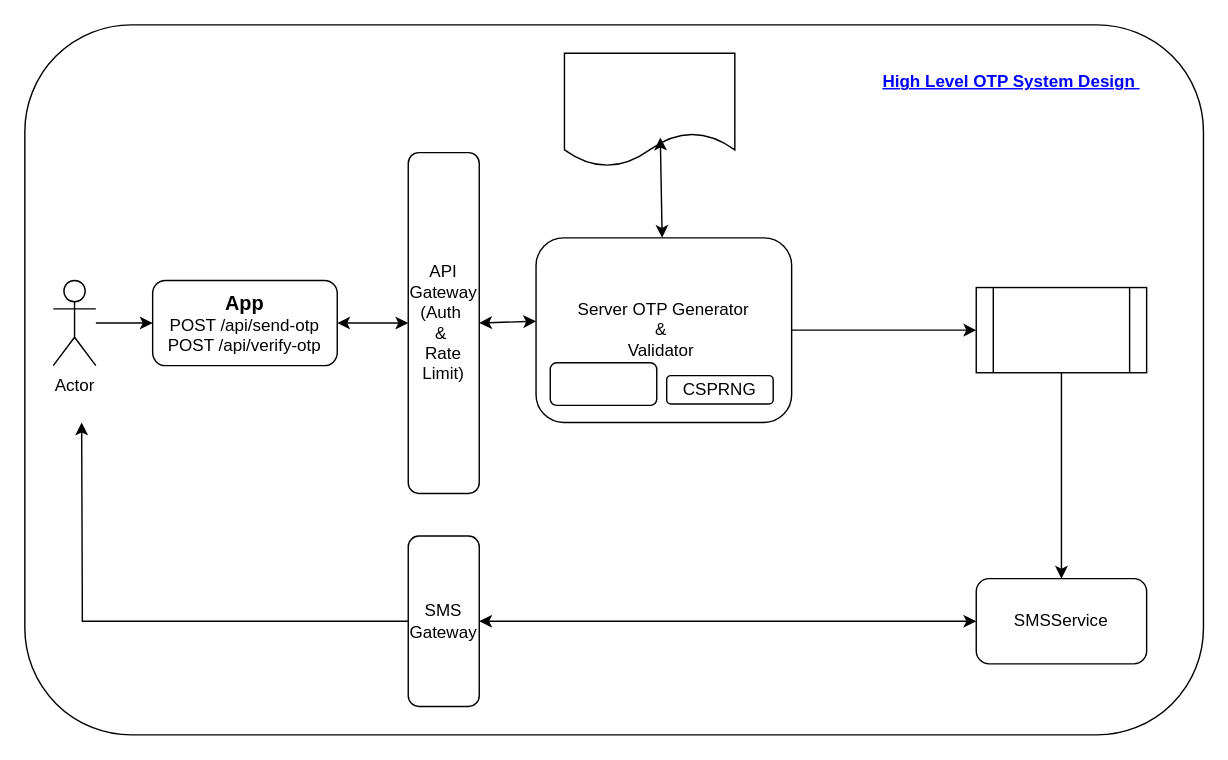
Some shapes in this 1228 by 760 pixel diagram are drawn without their labels. The centre of each missing label's shape, as x and y in pixels:
"HMAC-SHA256" belongs at point 603,383.
"Kafka/BullMQ" belongs at point 1061,329.
"Redis Cache TTL( 5 MIn)" belongs at point 649,109.
